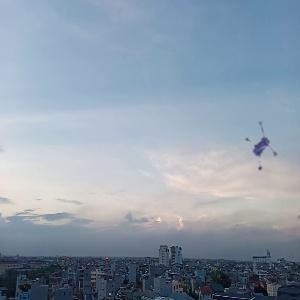drone: (236, 121, 298, 183)
